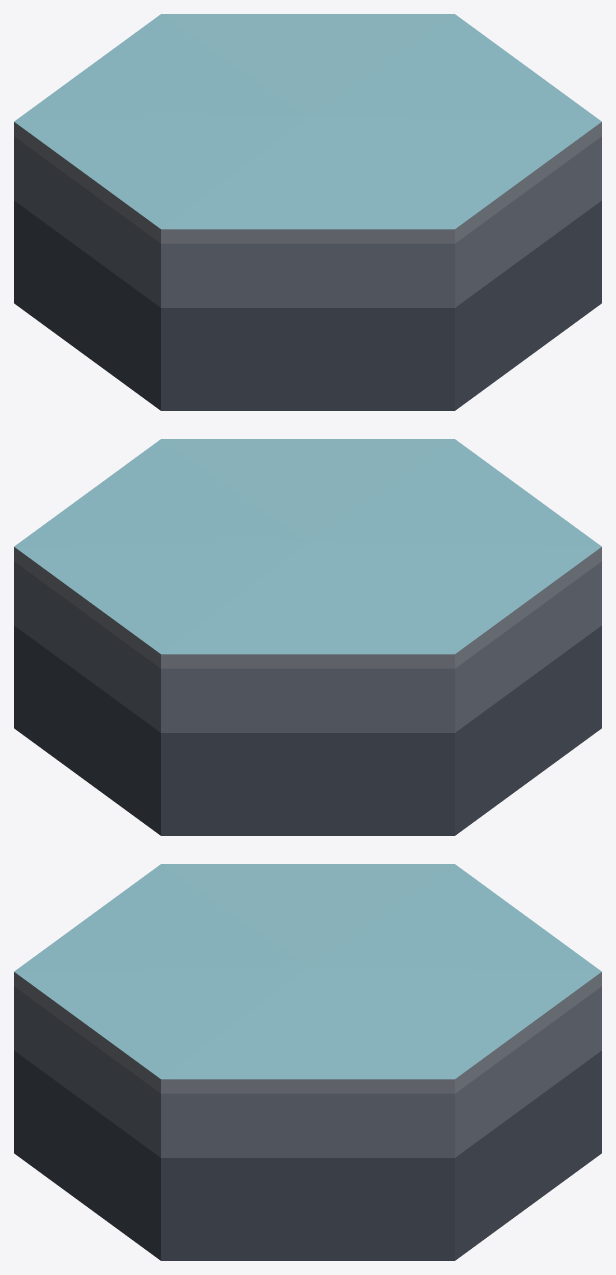
The model's file is AW-HEX-XMAS-ICE-v0.1.glb.
3 views of the same model, one above another, from view 1: azimuth 30°, elevation 25°; view 2: azimuth 150°, elevation 25°; view 3: azimuth 270°, elevation 25° (orthographic).
Visible parts, largest first — view 1: AW-HEX-XMAS-ICE-v01; view 2: AW-HEX-XMAS-ICE-v01; view 3: AW-HEX-XMAS-ICE-v01.
Boxes of the visible parts, x1,y1,x2,y2 form: AW-HEX-XMAS-ICE-v01: [14, 14, 601, 410]; AW-HEX-XMAS-ICE-v01: [14, 439, 601, 835]; AW-HEX-XMAS-ICE-v01: [14, 864, 601, 1260].
Bounding box in the file's own units: 3.81 × 1.54 × 4.4.
